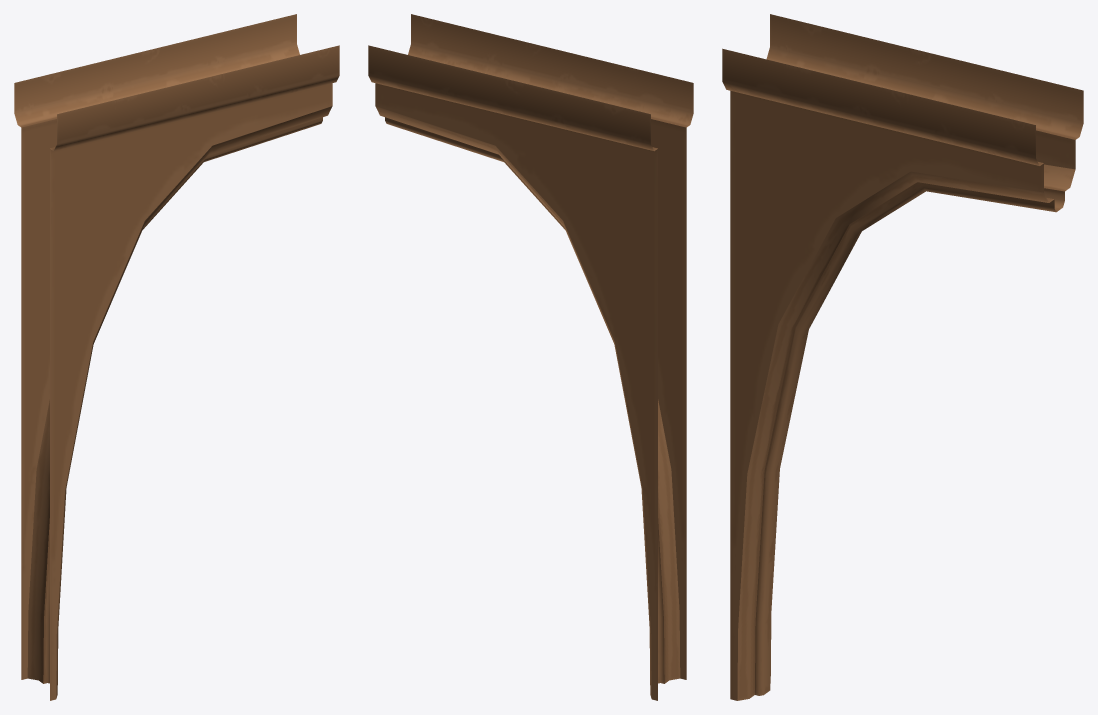
Rendered from ARC0510089.fbx.
3 views of the same model, side by side, from view 1: azimuth 30°, elevation 25°; view 2: azimuth 150°, elevation 25°; view 3: azimuth 330°, elevation 25° (orthographic). The views are drawn at different scales.
Parts seen in each view (by area): view 1: smARC0510089; view 2: smARC0510089; view 3: smARC0510089.
Part boxes in pixels (x1,y1,x2,y2): smARC0510089: (14,14,339,700); smARC0510089: (368,14,693,700); smARC0510089: (722,14,1083,700).
Bounding box in the file's own units: 150 × 300 × 39.29.
1 material, 1 textured.
